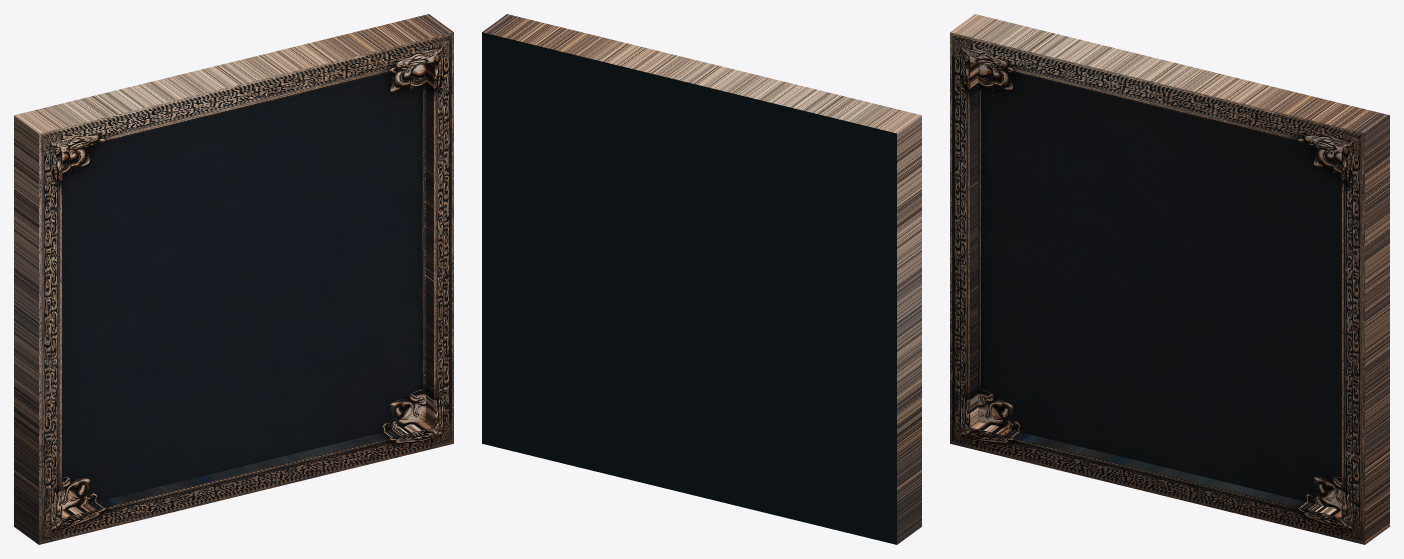
Rendered from panel_hud.glb.
3 renders of one model, left to right at view 1: azimuth 30°, elevation 25°; view 2: azimuth 150°, elevation 25°; view 3: azimuth 330°, elevation 25°, orthographic.
Parts seen in each view (by area): view 1: panel_hud; view 2: panel_hud; view 3: panel_hud.
Boxes of the visible parts, x1,y1,x2,y2 form: panel_hud: (14, 14, 453, 544); panel_hud: (482, 14, 921, 544); panel_hud: (950, 14, 1389, 544).
Bounding box in the file's own units: 0.38 × 0.36 × 0.042.
1 material, 1 textured.
